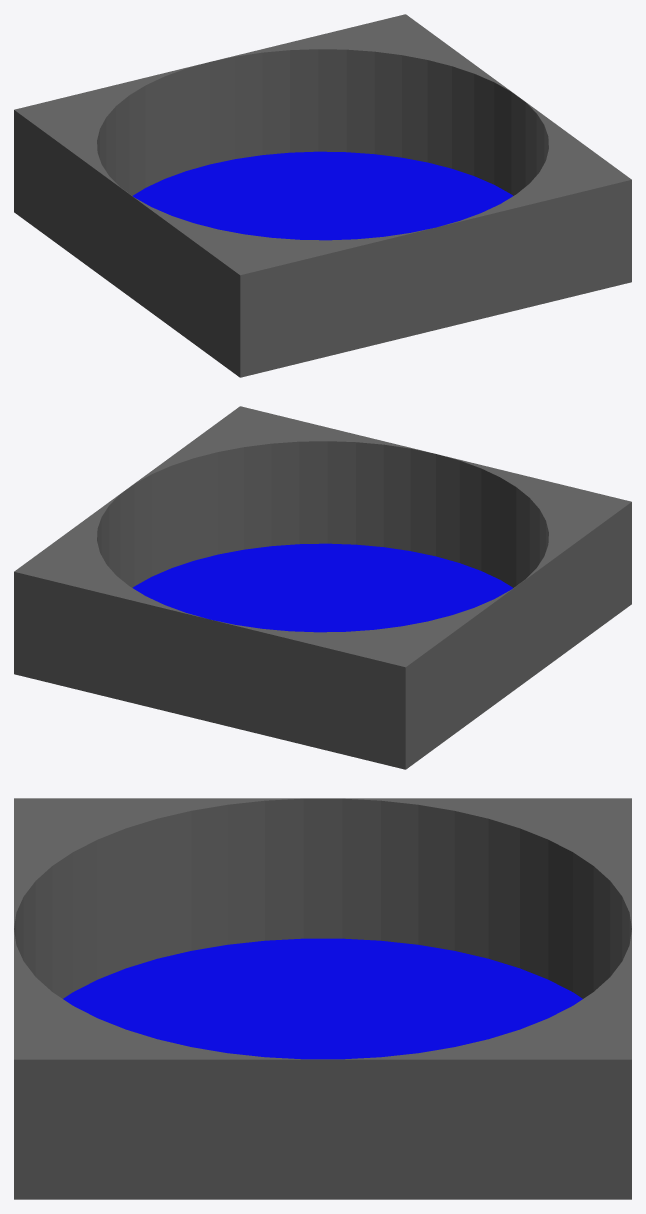
File: cylinder_mold.gltf
3 views of the same model, one above another, from view 1: azimuth 30°, elevation 25°; view 2: azimuth 150°, elevation 25°; view 3: azimuth 270°, elevation 25° (orthographic). The views are drawn at different scales.
Visible parts, largest first — view 1: Mold, Plane; view 2: Mold, Plane; view 3: Mold, Plane.
Part boxes in pixels (x1,y1,x2,y2): Mold: [14, 14, 631, 377]; Plane: [133, 151, 512, 240]; Mold: [14, 406, 631, 769]; Plane: [133, 543, 512, 632]; Mold: [14, 798, 631, 1199]; Plane: [63, 938, 582, 1059].
Size of the model in its own units: 0.2 by 0.05 by 0.2.
